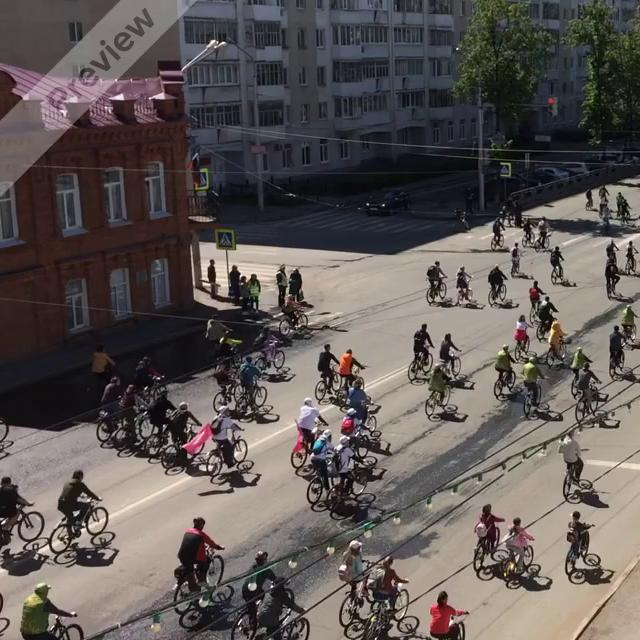bicycle: (172, 547, 225, 614), (48, 497, 109, 554), (338, 559, 384, 627), (362, 587, 419, 640), (491, 544, 541, 589), (206, 433, 253, 479), (326, 459, 367, 508), (564, 523, 601, 577), (160, 423, 202, 469), (290, 420, 329, 469), (306, 449, 339, 503), (473, 524, 507, 576), (562, 458, 593, 503), (233, 376, 267, 414), (425, 380, 458, 419), (212, 377, 245, 414), (522, 383, 550, 419), (255, 339, 285, 371), (278, 306, 310, 336), (407, 347, 433, 383), (314, 365, 340, 401), (608, 343, 633, 379), (334, 368, 364, 397), (546, 337, 572, 369), (493, 367, 518, 399), (574, 386, 598, 417), (536, 313, 558, 342), (514, 327, 531, 362), (426, 276, 447, 304), (441, 349, 462, 376), (488, 280, 507, 307), (455, 277, 473, 305), (529, 297, 543, 325), (509, 251, 524, 277), (623, 251, 638, 276), (606, 275, 620, 300), (550, 260, 564, 284)
